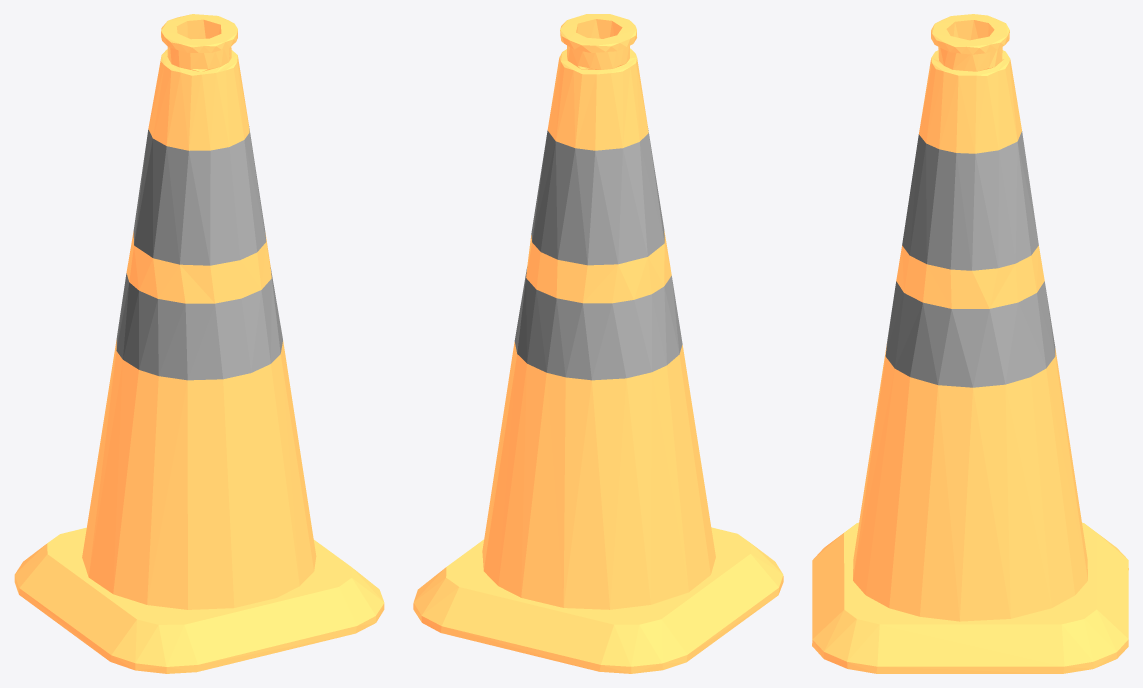
The model's file is cone_big.dae.
The picture shows the model from 3 angles, left to right: view 1: azimuth 30°, elevation 25°; view 2: azimuth 150°, elevation 25°; view 3: azimuth 270°, elevation 25°; orthographic projection.
Parts seen in each view (by area): view 1: _8_Inch; view 2: _8_Inch; view 3: _8_Inch.
Part boxes in pixels (x1,y1,x2,y2): _8_Inch: (14, 14, 384, 673); _8_Inch: (413, 14, 783, 673); _8_Inch: (812, 14, 1128, 673).
Bounding box in the file's own units: 0.2613 × 0.2613 × 0.5255.
